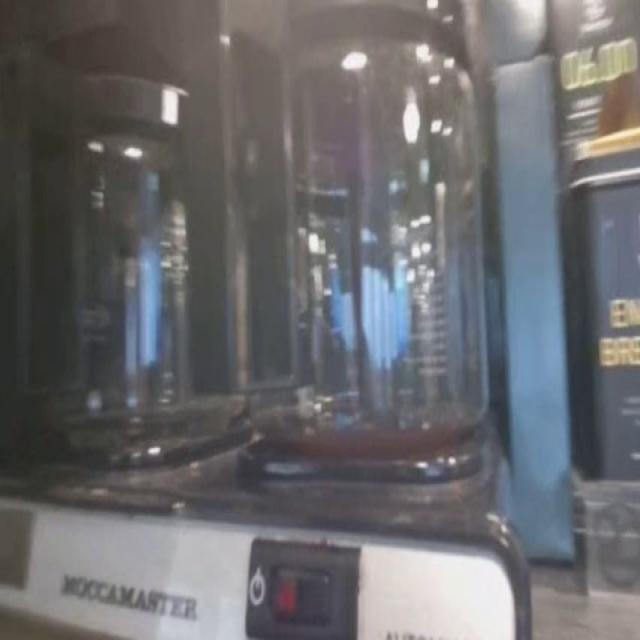nocoffee: (242, 69, 490, 442), (31, 151, 227, 432)
